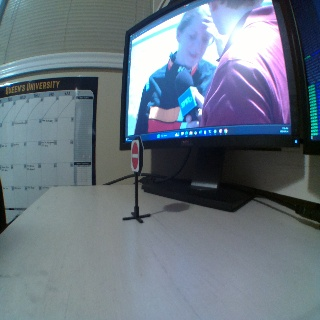sign_noentry: (130, 141, 139, 170)
